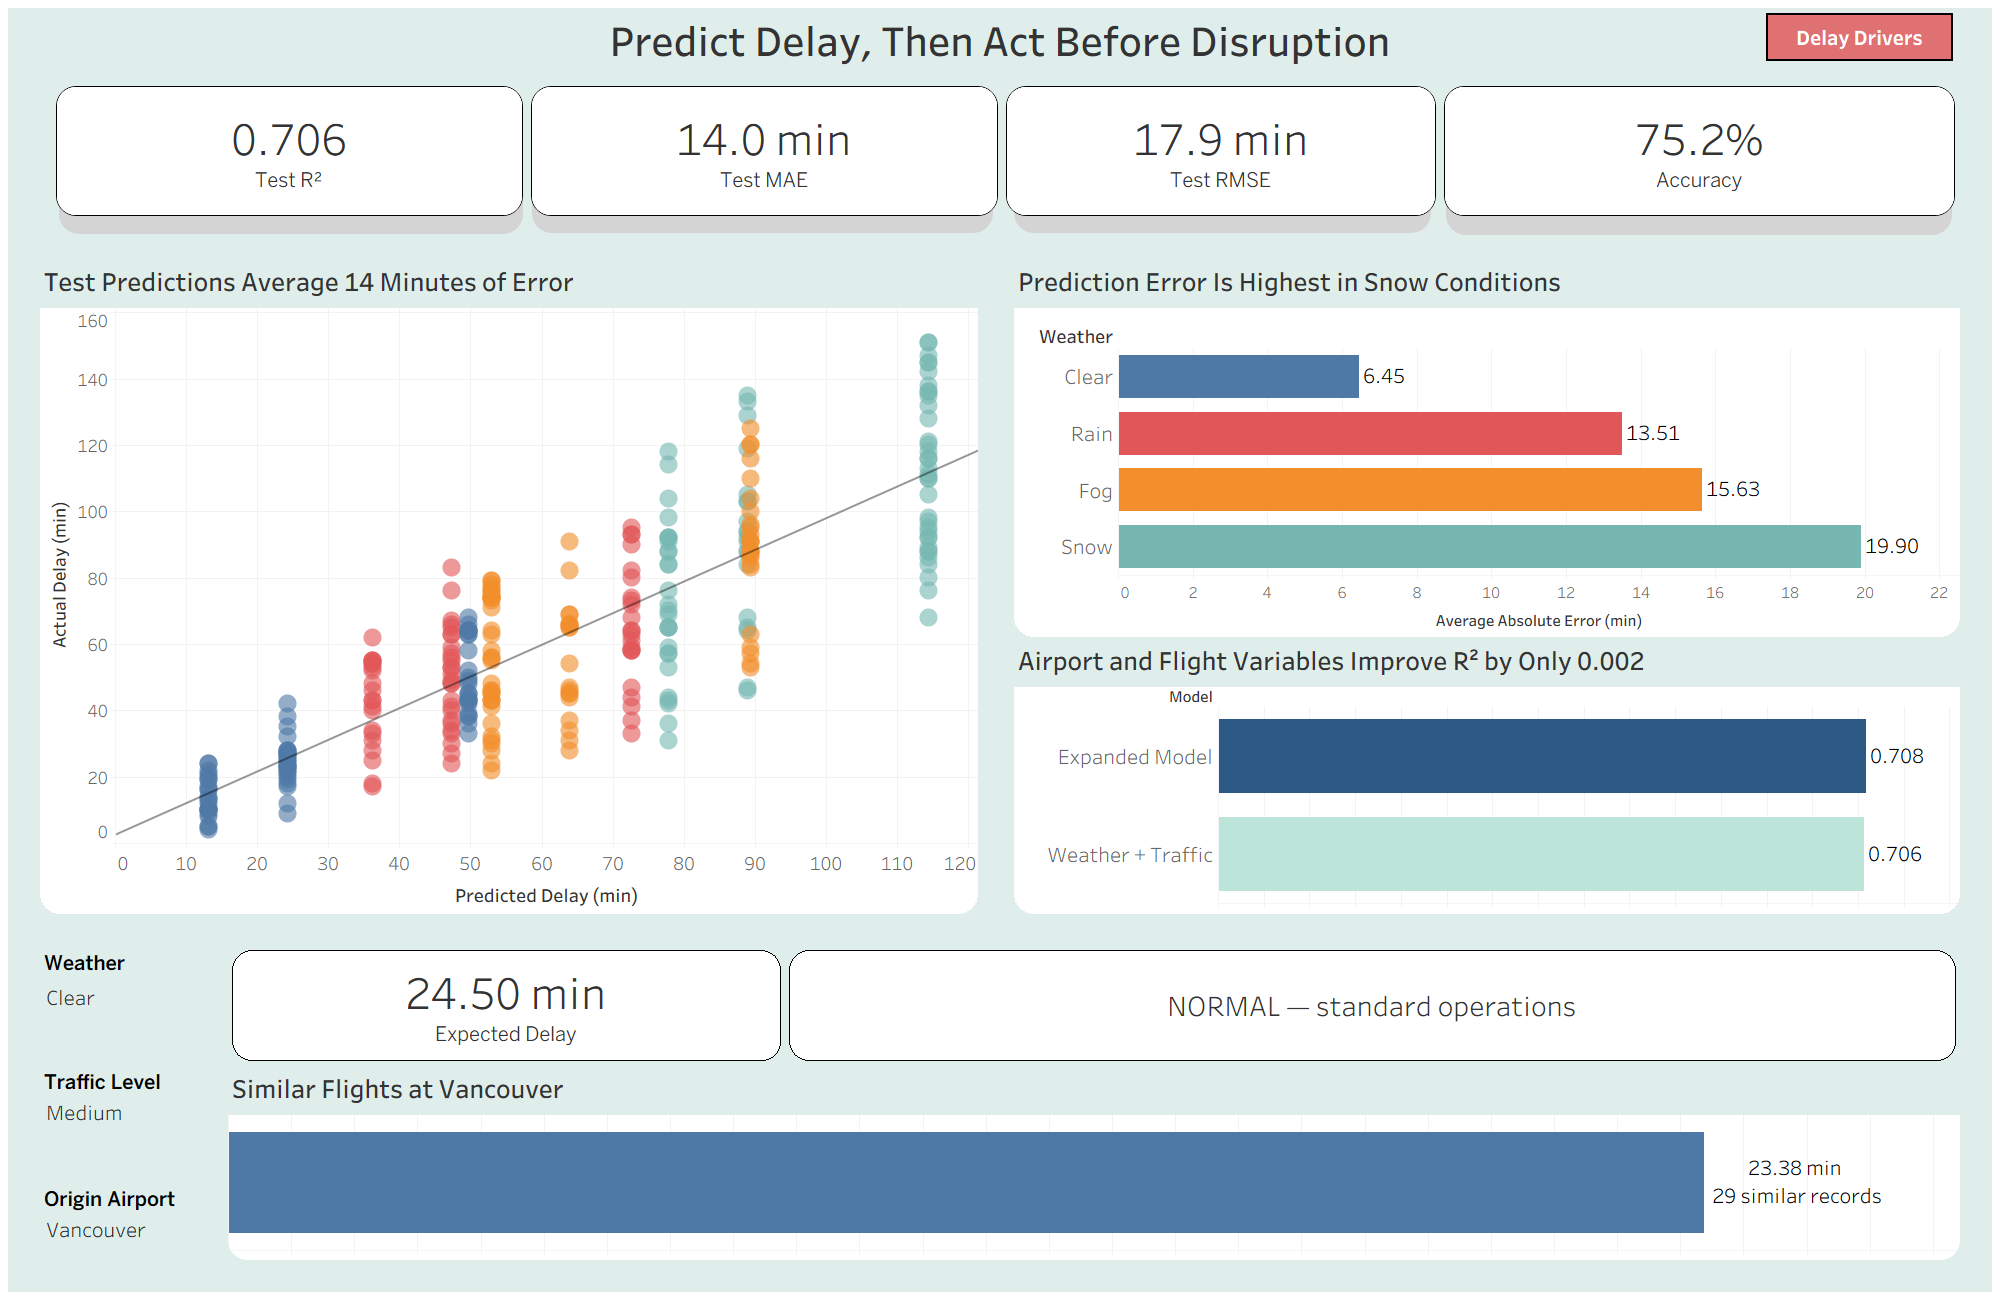

This screenshot's page, from the dashboard's own definition file:
{"tool":"tableau","page":{"name":"Dashboard 2 - Prediction and Action","canvas":[2000,1300],"ordinal":1},"visuals":[{"type":"title","box":[39.9,8,1920.1,63]},{"type":"dashboard-object","box":[1766,13,187,48]},{"type":"worksheet","title":"P1 - Test R2","mark":"Automatic","box":[52,82,475,138]},{"type":"worksheet","title":"P2 - Test MAE","mark":"Automatic","box":[527,82,475.1,138]},{"type":"worksheet","title":"P3 - Test RMSE","mark":"Automatic","box":[1002.2,82,438,138]},{"type":"worksheet","title":"P4 - Test Accuracy","mark":"Automatic","box":[1440.2,82,518.8,138]},{"type":"worksheet","title":"W8 - Predicted vs Actual","mark":"Circle","rows":["Delay_Minutes"],"cols":["Validation_Predicted_Delay"],"box":[39.9,257.7,937.7,656.3]},{"type":"worksheet","title":"W9 - Error by Weather","mark":"Bar","rows":["Weather"],"cols":["Validation_Abs_Error"],"box":[1014.5,257.7,945.5,379.5]},{"type":"worksheet","title":"W10 - Model Comparison","mark":"Bar","rows":["Model"],"cols":["Test_R2"],"box":[1014.5,637.2,945.5,276.8]},{"type":"parameter","param":"[Parameters].[Parameter 1]","box":[39.9,946.3,188.1,119.1]},{"type":"worksheet","title":"S1 - Expected Delay","mark":"Automatic","box":[228,946.3,557,118.7]},{"type":"worksheet","title":"S2 - Recommended Action","mark":"Automatic","box":[785,946.3,1175,118.7]},{"type":"worksheet","title":"S3 - Similar Historical Flights","mark":"Bar","cols":["Calculation_3137193486868494"],"box":[228,1065,1732,195]},{"type":"parameter","param":"[Parameters].[Parameter 2]","box":[39.9,1065.4,188.1,116.2]},{"type":"parameter","param":"[Parameters].[Parameter 3]","box":[39.9,1181.6,188.1,78.4]}]}

Visuals, with their boxes in screenshot pixels (x1, y1, x2, y2), scaled from the page's 2000x1300 canvas onto the 2000x1300 screenshot:
title: (40, 8, 1960, 71)
dashboard-object: (1766, 13, 1953, 61)
"P1 - Test R2" worksheet: (52, 82, 527, 220)
"P2 - Test MAE" worksheet: (527, 82, 1002, 220)
"P3 - Test RMSE" worksheet: (1002, 82, 1440, 220)
"P4 - Test Accuracy" worksheet: (1440, 82, 1959, 220)
"W8 - Predicted vs Actual" worksheet (Circle marks): (40, 258, 978, 914)
"W9 - Error by Weather" worksheet (Bar marks): (1014, 258, 1960, 637)
"W10 - Model Comparison" worksheet (Bar marks): (1014, 637, 1960, 914)
parameter: (40, 946, 228, 1065)
"S1 - Expected Delay" worksheet: (228, 946, 785, 1065)
"S2 - Recommended Action" worksheet: (785, 946, 1960, 1065)
"S3 - Similar Historical Flights" worksheet (Bar marks): (228, 1065, 1960, 1260)
parameter: (40, 1065, 228, 1182)
parameter: (40, 1182, 228, 1260)
